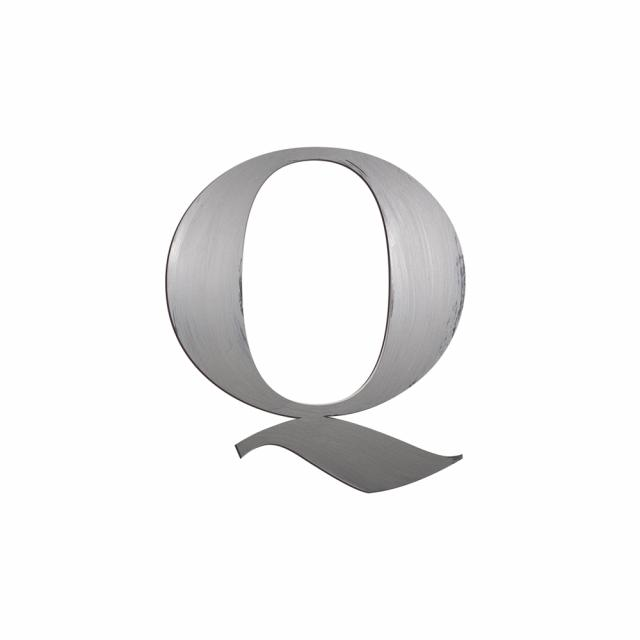Q: (112, 88, 580, 551)
